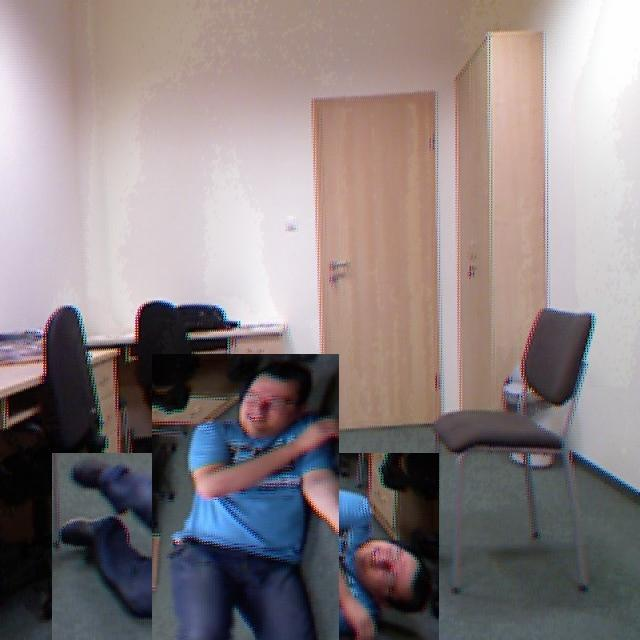Fall: (166, 362, 355, 640)
